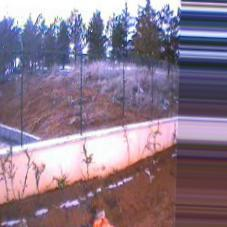fire: (86, 206, 111, 225)
